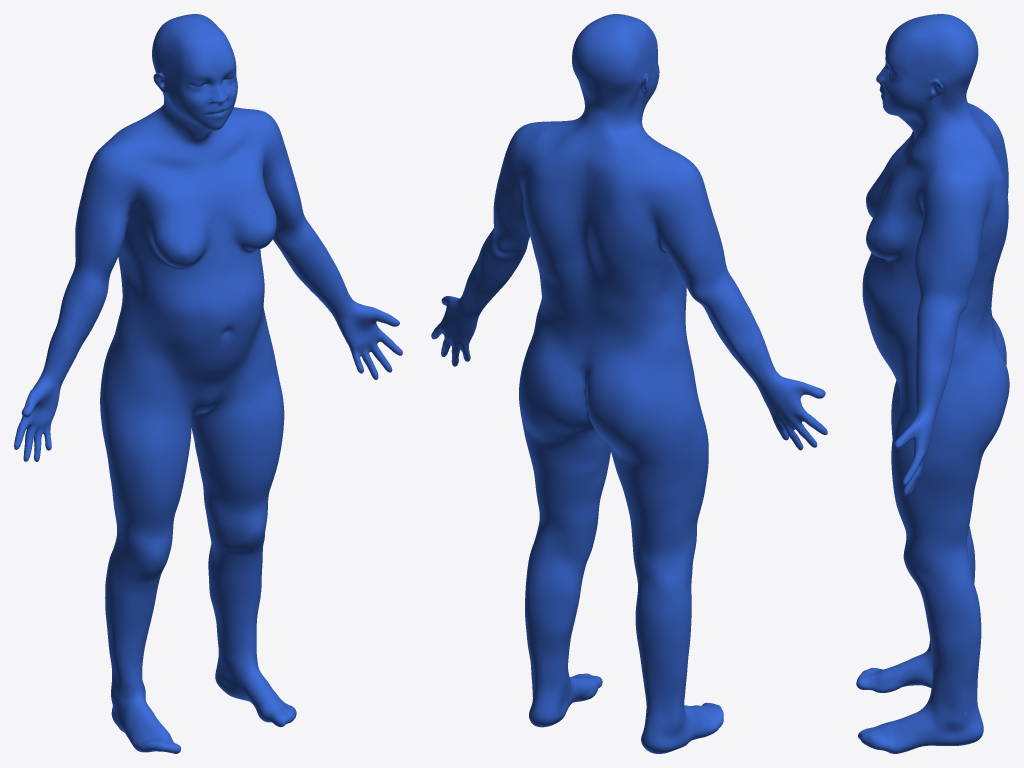
Rendered from 3d-vh-f-skin_lod_20.glb.
3 renders of one model, left to right at view 1: azimuth 30°, elevation 25°; view 2: azimuth 150°, elevation 25°; view 3: azimuth 270°, elevation 25°, orthographic.
Visible parts, largest first — view 1: VH_F_skin; view 2: VH_F_skin; view 3: VH_F_skin.
Part boxes in pixels (bbox=[...]): VH_F_skin: bbox=[14, 14, 402, 753]; VH_F_skin: bbox=[431, 14, 827, 753]; VH_F_skin: bbox=[856, 14, 1009, 753].
Size of the model in its own units: 0.9674 by 1.67 by 0.3293.
